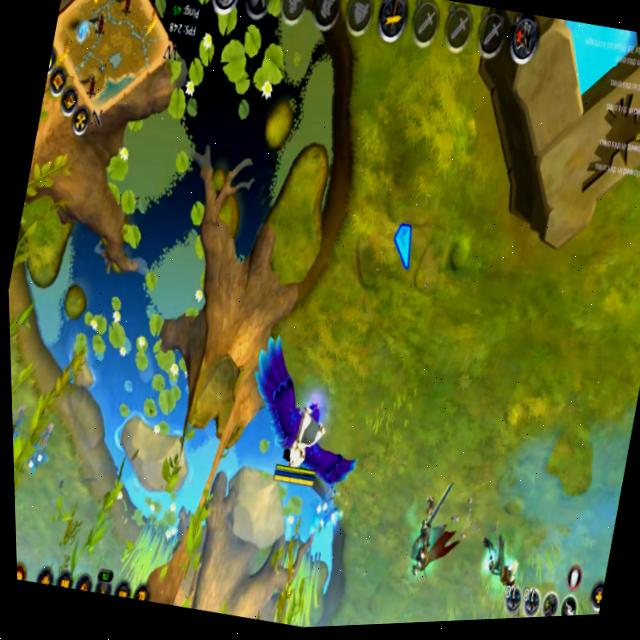hide: (304, 477, 351, 550), (17, 412, 59, 478), (12, 394, 29, 458)
ore: (397, 467, 475, 590), (465, 513, 534, 603)
red: (223, 313, 386, 520)
